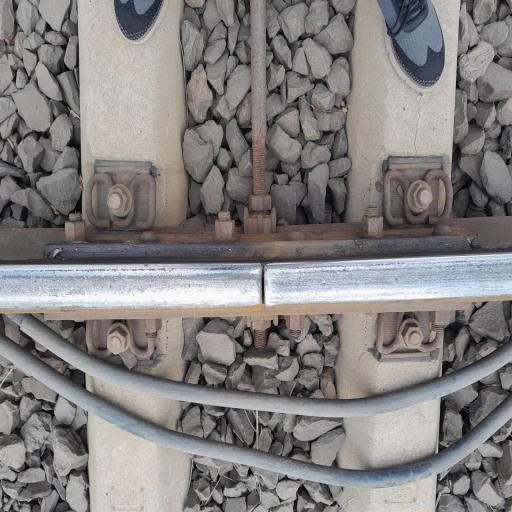bolt: (98, 179, 139, 225), (406, 172, 442, 216), (99, 320, 133, 362), (400, 317, 431, 358)
broken_rail: (188, 251, 333, 322)
clip: (380, 154, 458, 230), (80, 165, 161, 233), (368, 306, 456, 364), (85, 315, 161, 371)
rail: (15, 255, 161, 317), (344, 248, 484, 306)
